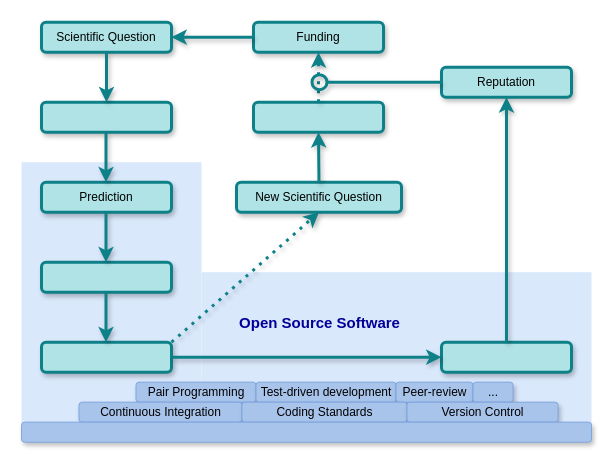
The diagram is 615 pixels wide and 467 high, and some of its shapes have lost their labels. Each missing label, with the centre of its shape:
Experimental Test: the point at 107,278
Hypothesis: the point at 107,118
Project Proposal: the point at 319,118
Publication: the point at 507,358
Scientific Finding: the point at 107,358
Use of open source software and standards: the point at 307,433
